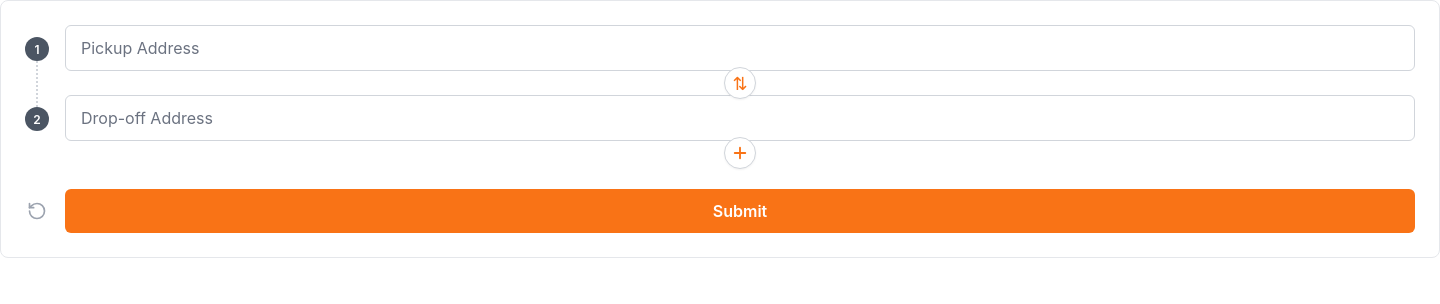
RouteForm › shows validation error when submitting empty form
Click the button "Submit" at (740, 211), box [65,189,1415,233]
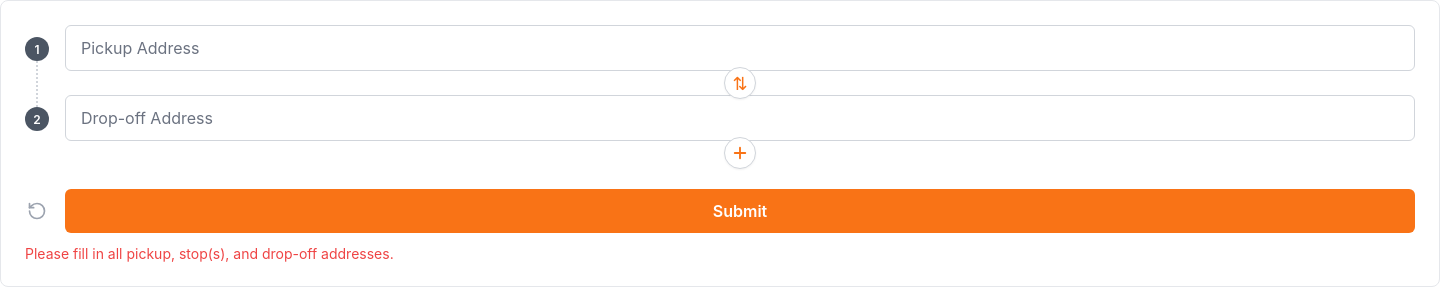
Now the message reads "Please fill in all pickup, stop(s), and drop-off addresses.", box [25,245,394,262]
